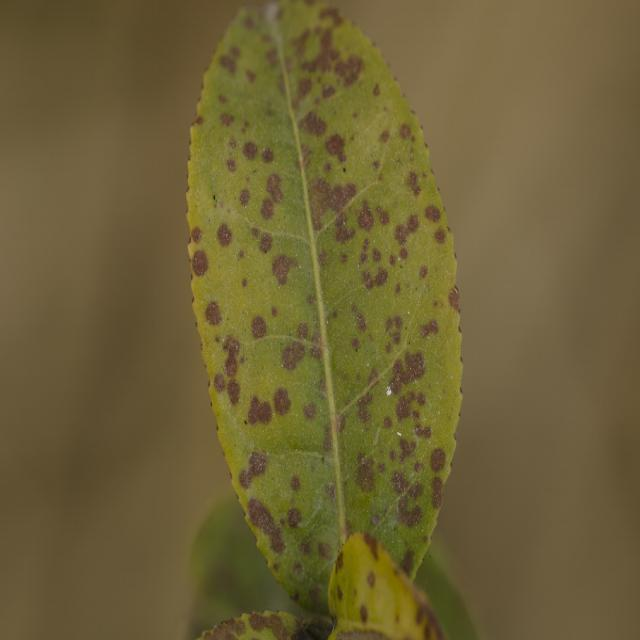Tea red scab: (188, 18, 454, 551)
